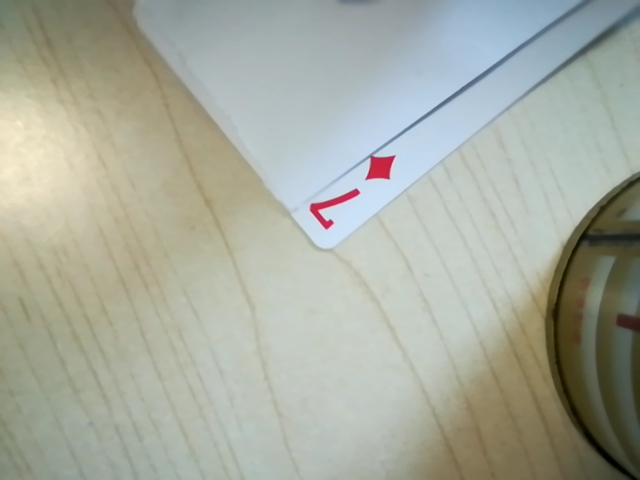fk 7: (297, 149, 401, 234)
